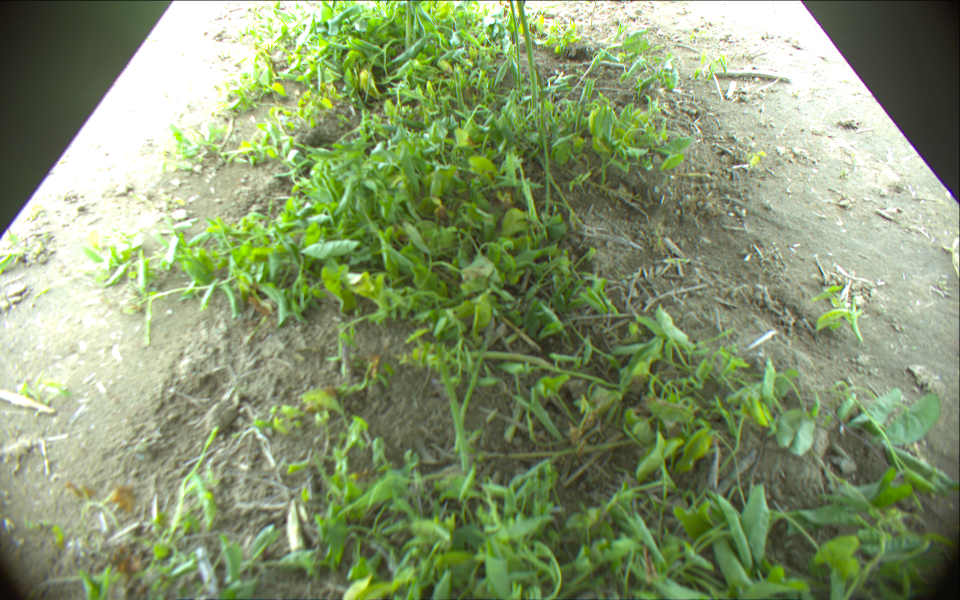aspa: (516, 1, 551, 216), (453, 319, 494, 451), (434, 341, 470, 474), (507, 1, 523, 97), (401, 1, 415, 55)
